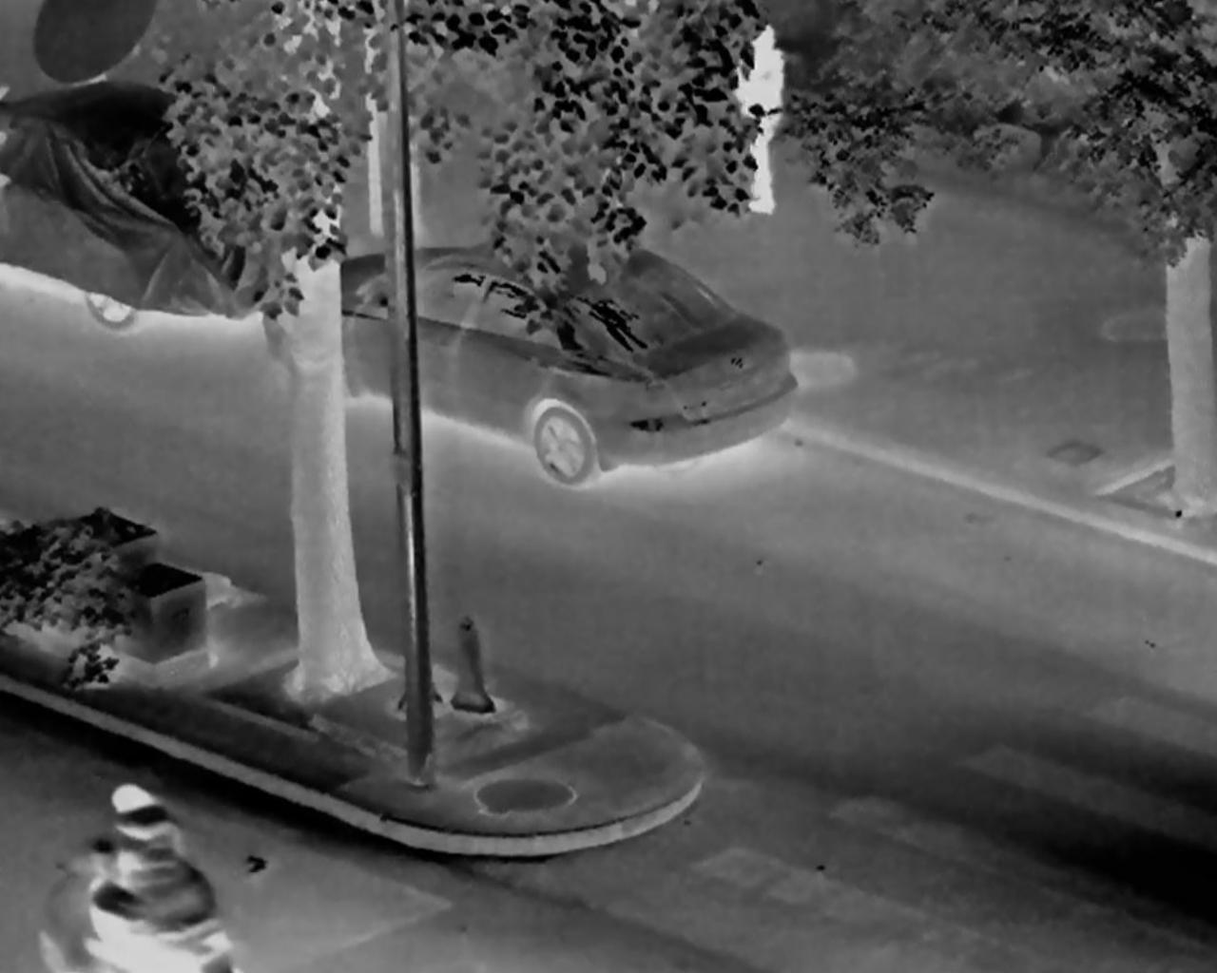person: (83, 784, 182, 968), (719, 15, 784, 219)
